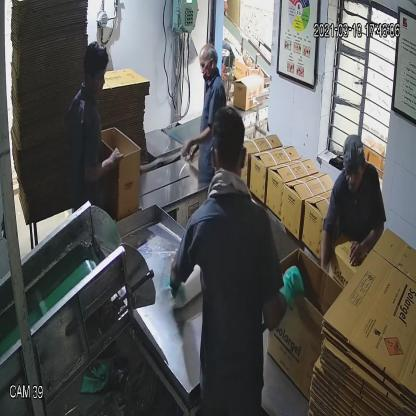no_glove: (177, 112, 217, 166), (82, 141, 125, 188), (349, 221, 389, 268), (314, 222, 336, 278)
